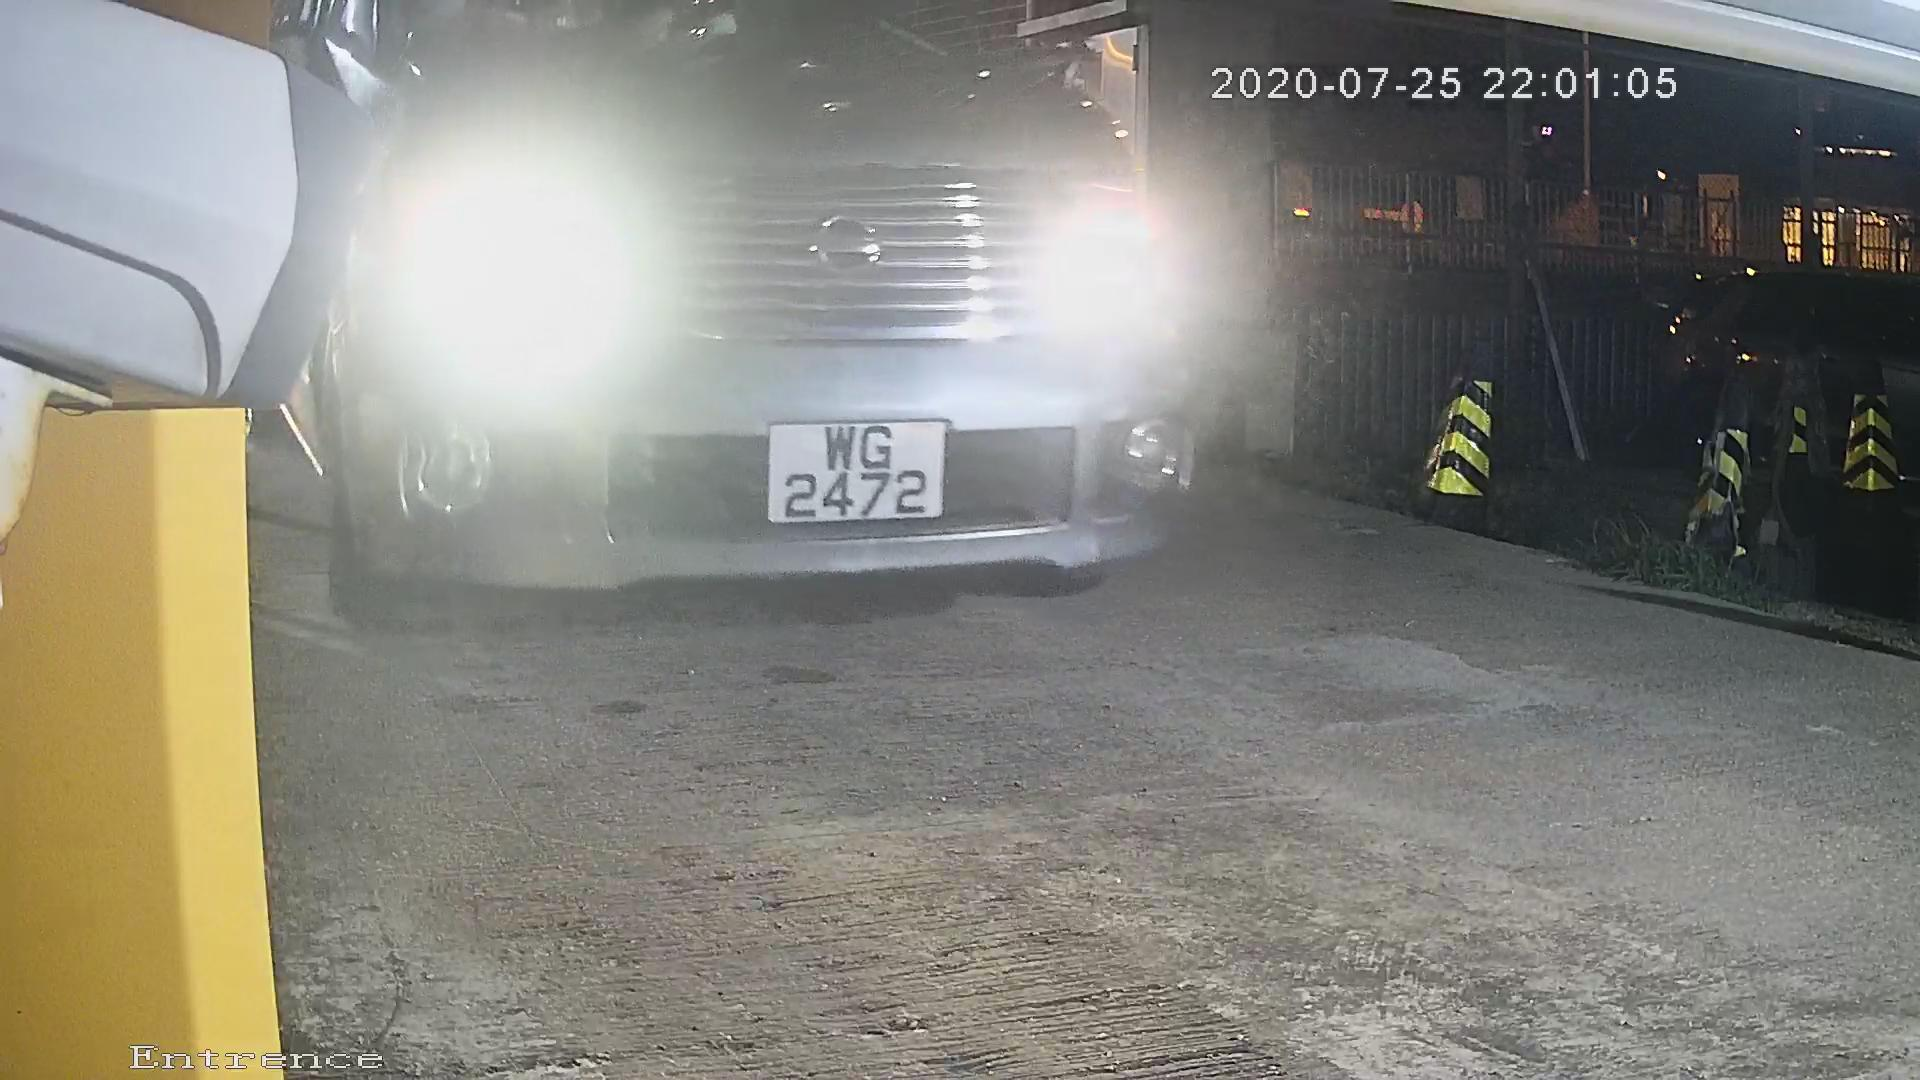privatecar: (284, 25, 1286, 637)
